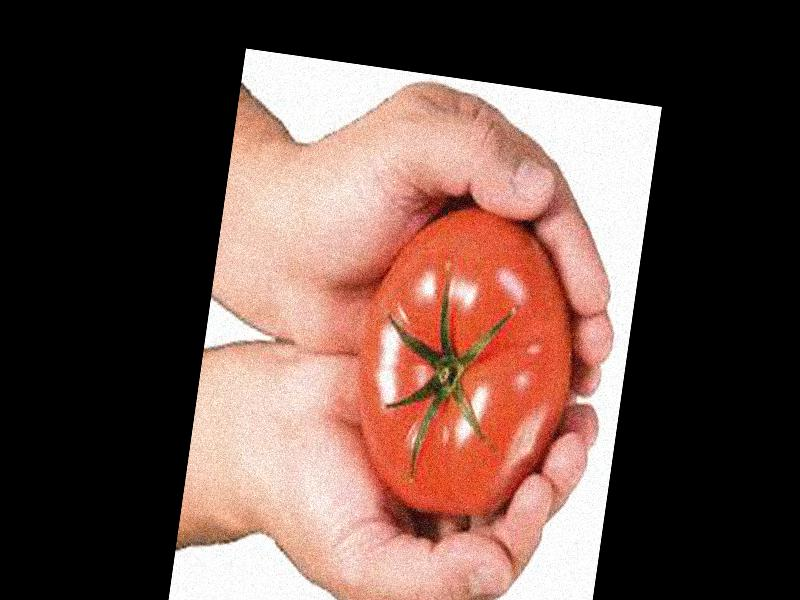Tomato: (342, 194, 589, 531)
